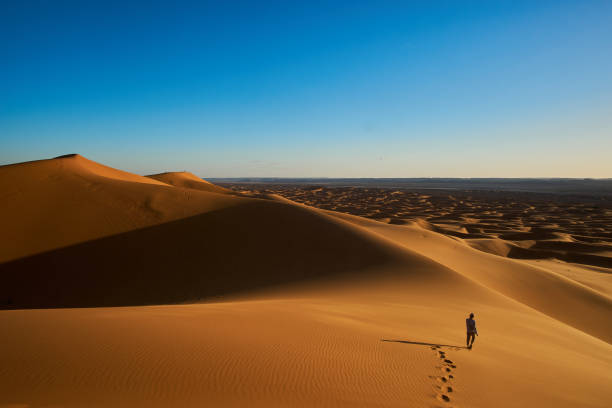human_footprint: (431, 346, 455, 405)
